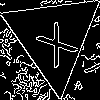X: (28, 12, 79, 69)
